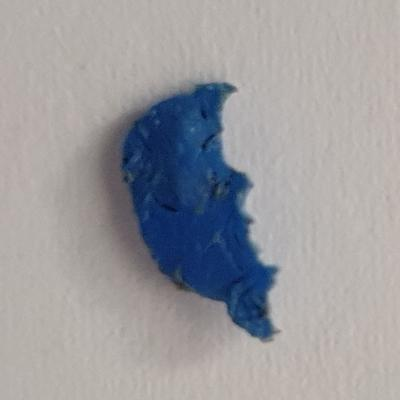plastic: (119, 77, 286, 348)
